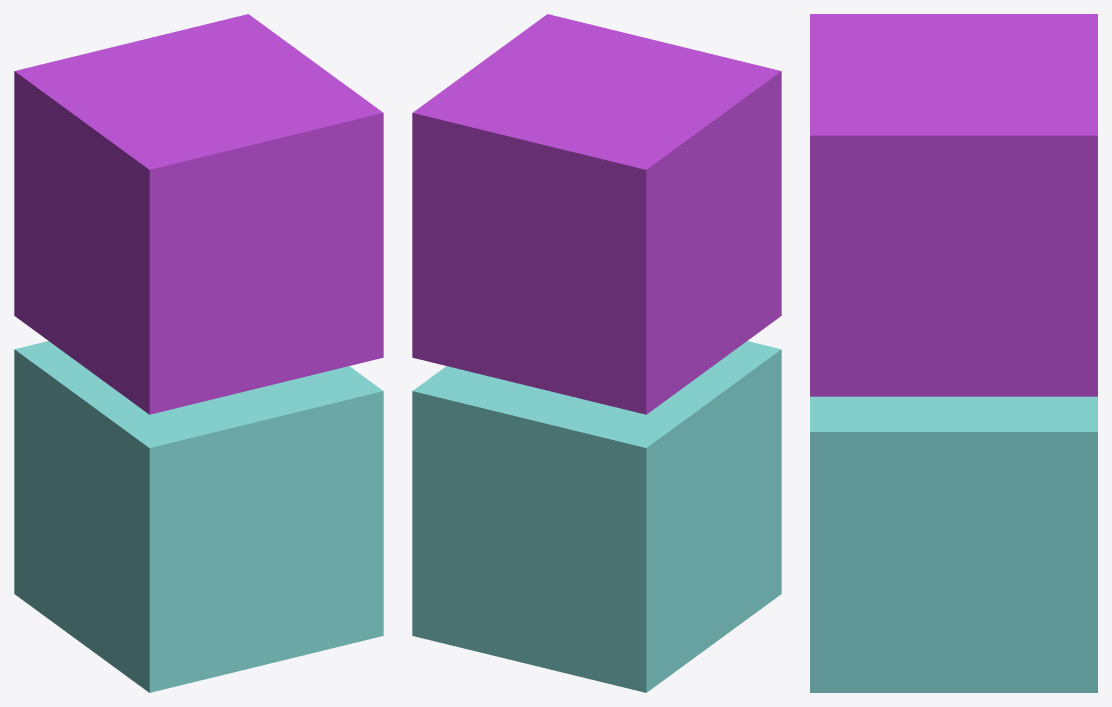
Rendered from ISUIZAS.glb.
The picture shows the model from 3 angles, left to right: view 1: azimuth 30°, elevation 25°; view 2: azimuth 150°, elevation 25°; view 3: azimuth 270°, elevation 25°; orthographic projection. The views are drawn at different scales.
Parts seen in each view (by area): view 1: Cube.001, Cube; view 2: Cube.001, Cube; view 3: Cube.001, Cube.
Part boxes in pixels (x1=…): Cube.001: x1=14, y1=14, x2=383, y2=414; Cube: x1=14, y1=341, x2=383, y2=692; Cube.001: x1=412, y1=14, x2=781, y2=414; Cube: x1=412, y1=341, x2=781, y2=692; Cube.001: x1=810, y1=14, x2=1097, y2=396; Cube: x1=810, y1=396, x2=1097, y2=692.
Size of the model in its own units: 2 by 4.27 by 2.
